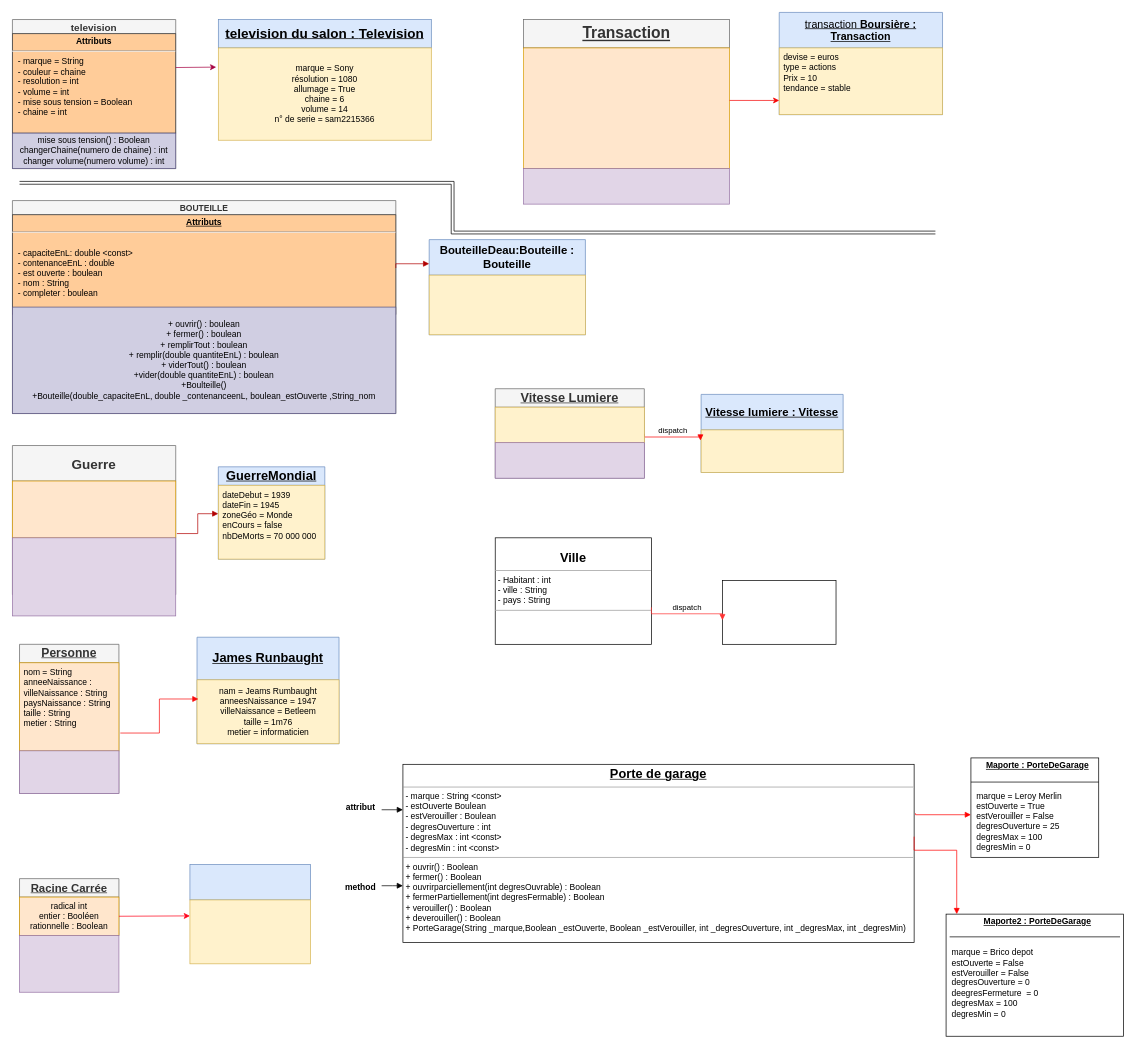
Some shapes in this 1136 by 1049 pixel diagram are drawn without their labels. Here are the shapes that lost their labels. From the top down, the centre of each, then its label:
(626,108): devise : String type : tring prix : double tendance : String
(626,186): acheter (double, prix) : double vendre (double, prix) : double
(506,304): capaciteEnL = 1.5 contenanceEnL = 1.25 estOuverte = false non = "Christaline"
(569,424): distanceKm : Double TempsS : Double
(569,460): calcul vitesse() : Double
(771,451): Distance = 300 000 Temps : 1 seconde
(94,509): date : int zoneGéo : String enCours : Boolean dateFin : int
(94,576): bombardement = () terrain gagner= () terrain recuperer= () auxiliair = ()
(779,612): Object:Type nomVille = Thionville nomPays = France nbHabitant = 41507
(69,771): donnerAge ()
(250,882): RacineCarre Quatre : RacineCarrée
(250,931): radical = 4 entiere = Vrai rationnelle = Vrai
(69,963): est Entier() : Boolean est Rationnel () : boolean
